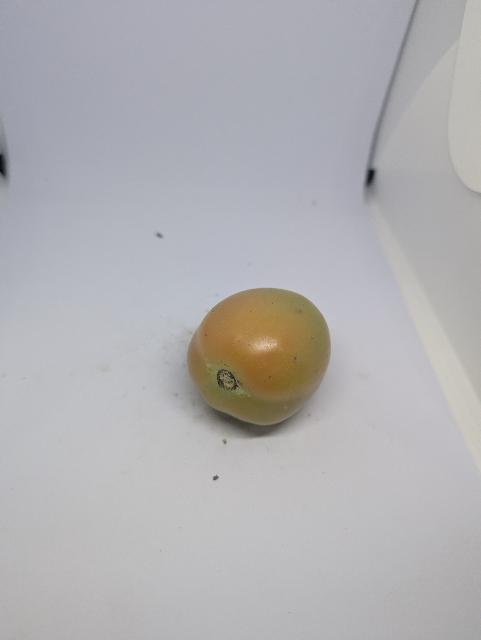breaker: (188, 288, 331, 425)
